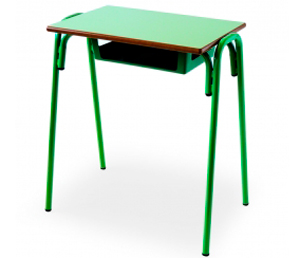m01: (45, 4, 250, 258)
